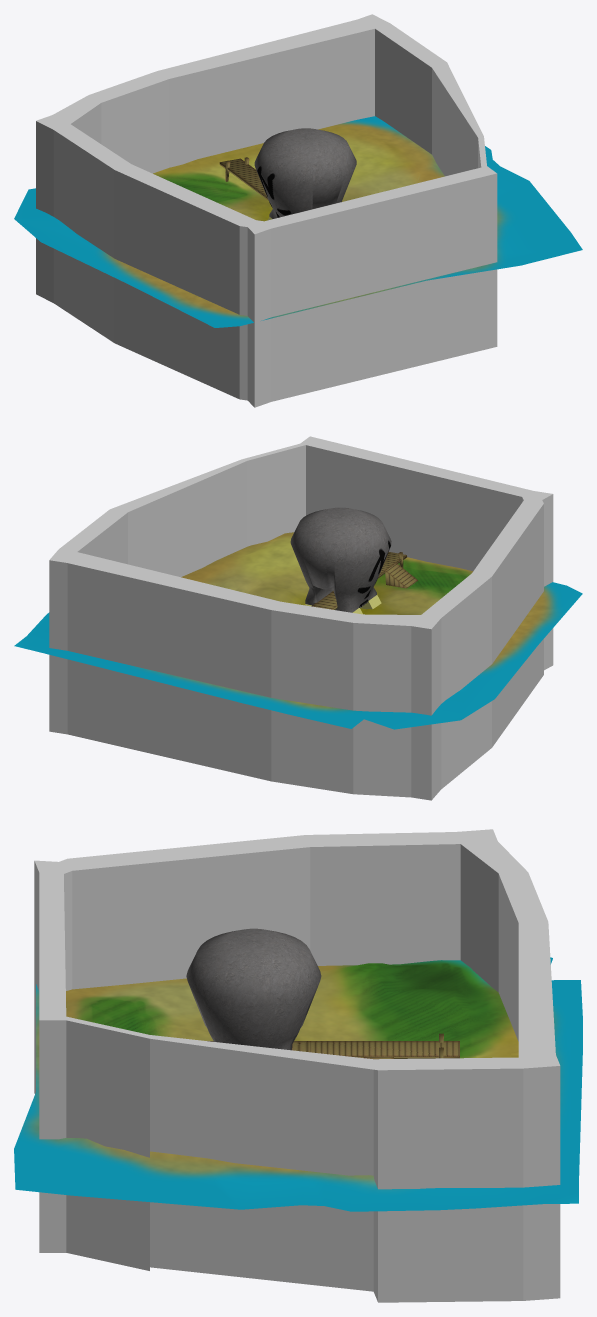
File: map_10.fbx
3 renders of one model, top to bottom at view 1: azimuth 30°, elevation 25°; view 2: azimuth 150°, elevation 25°; view 3: azimuth 270°, elevation 25°, orthographic. The views are drawn at different scales.
Visible parts, largest first — view 1: Cube, Plane, Circle, Pont; view 2: Cube, Plane, Circle, Pont; view 3: Cube, Plane, Circle, Pont.
Boxes of the visible parts, x1,y1,x2,y2 form: Cube: (36,14,497,407); Plane: (14,116,582,327); Circle: (254,128,356,218); Pont: (219,158,268,199); Cube: (49,436,553,800); Plane: (14,532,582,729); Circle: (290,507,391,612); Pont: (311,552,417,609); Cube: (34,829,560,1302); Plane: (14,957,582,1211); Circle: (186,928,321,1050); Pont: (207,1041,459,1059).
Bounding box in the file's own units: 148 × 58.25 × 126.
